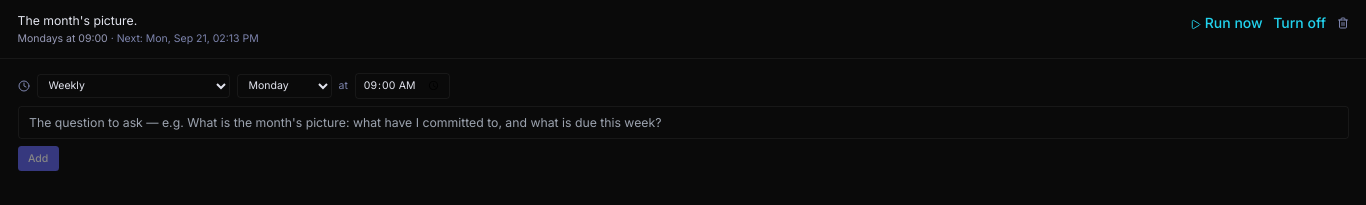
it: runs on its own › Run now says how it ended, in words
The image size is (1366, 205).
Expected: the element with test id "trigger-row" is shown, x1=0 y1=0 x2=1365 y2=59
Click the button with test id "trigger-run-now".
click(1226, 23)  # box x1=1190 y1=12 x2=1263 y2=33
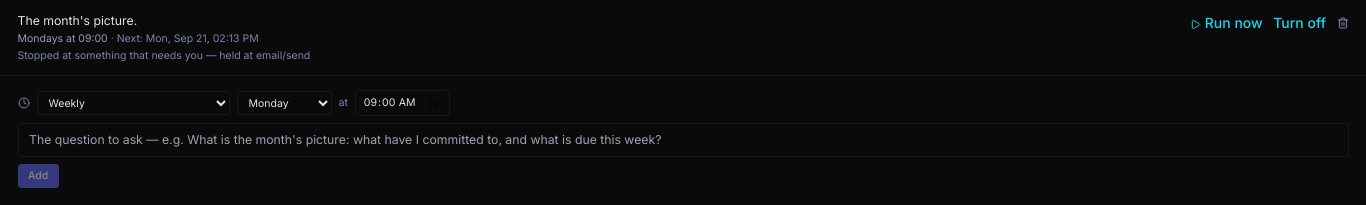
Now the text with test id "trigger-said" shows "held at email/send", box x1=18 y1=49 x2=310 y2=62
